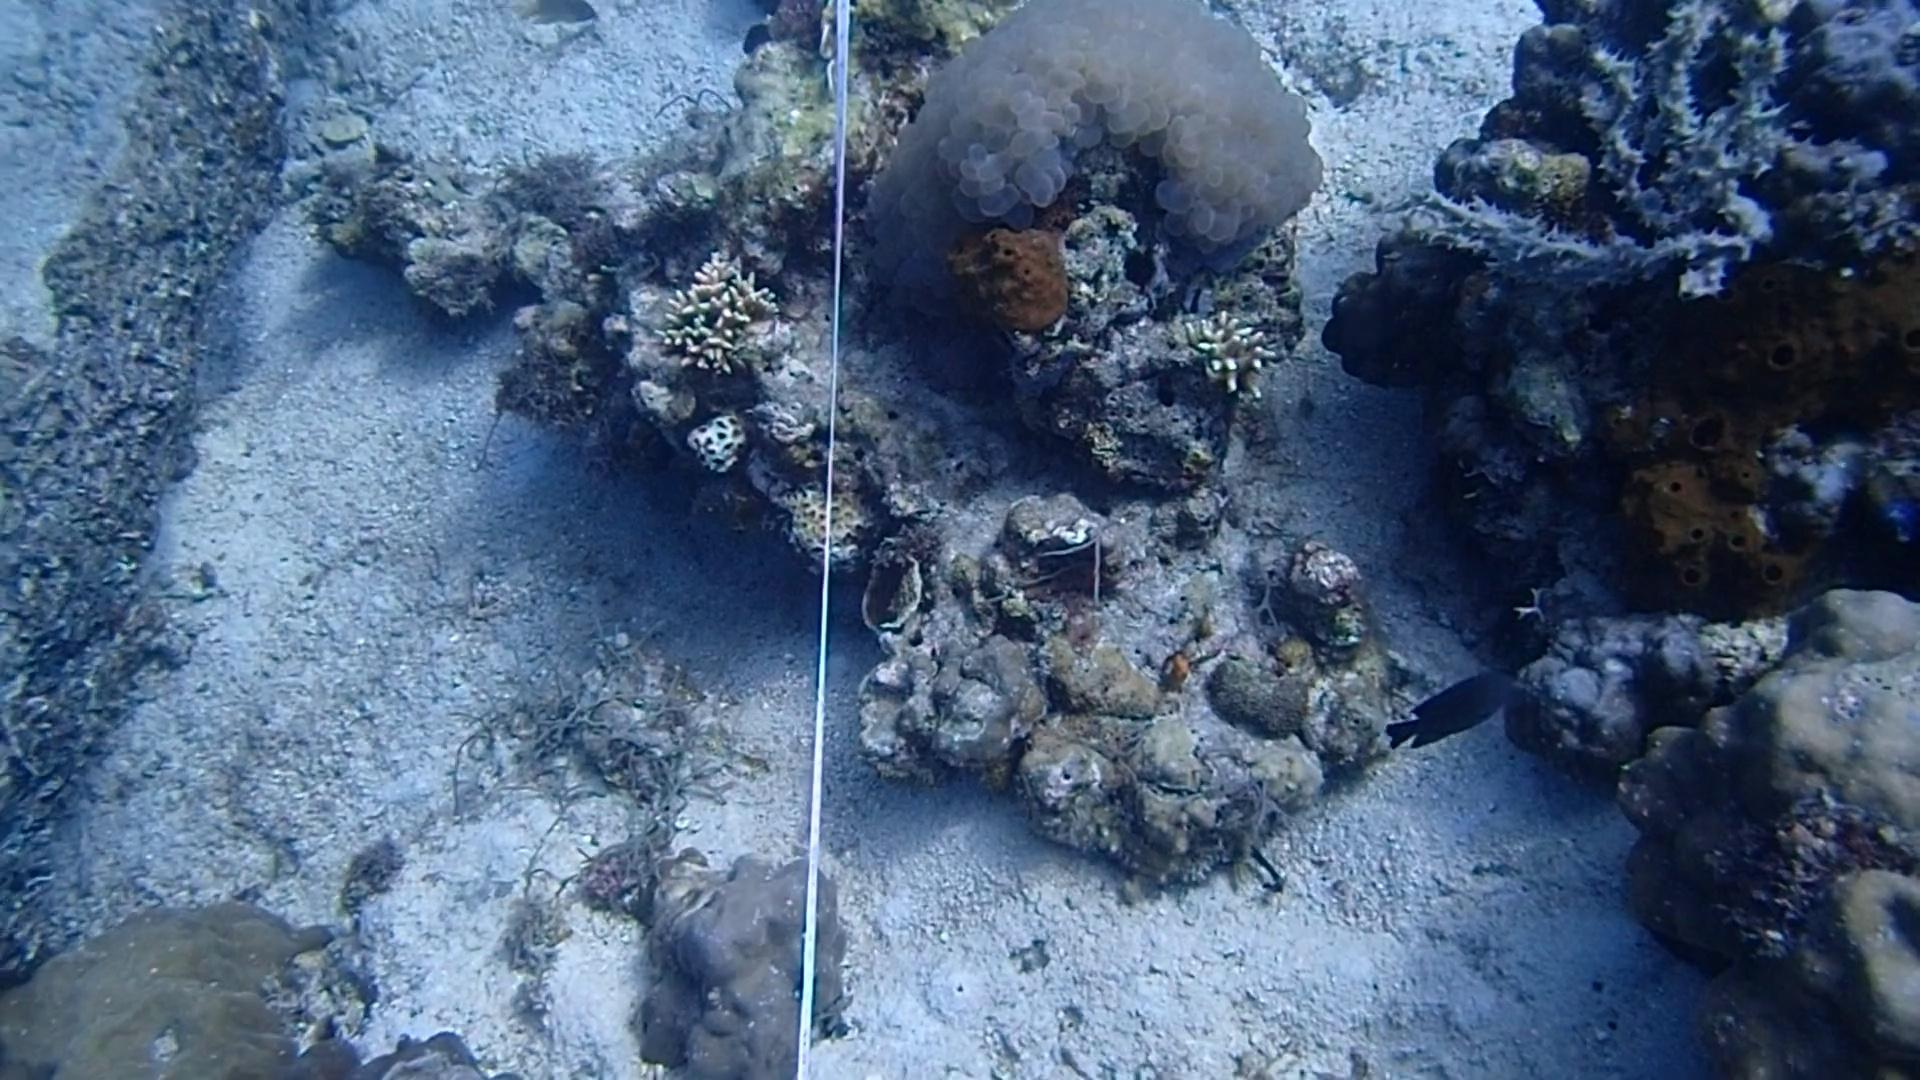Light Fish: (516, 0, 601, 38)
